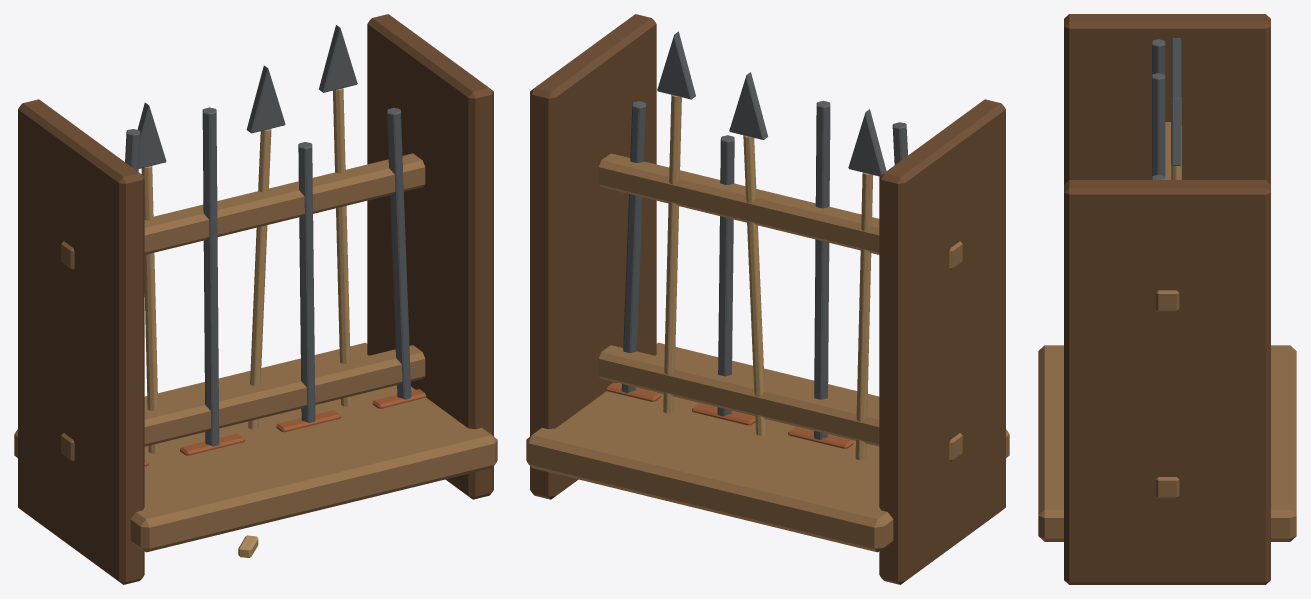
File: runtime.glb
3 views of the same model, side by side, from view 1: azimuth 30°, elevation 25°; view 2: azimuth 150°, elevation 25°; view 3: azimuth 270°, elevation 25° (orthographic). The views are drawn at different scales.
Parts seen in each view (by area): view 1: falkenwacht-weapon-rack-v07_nocol; view 2: falkenwacht-weapon-rack-v07_nocol; view 3: falkenwacht-weapon-rack-v07_nocol.
Part boxes in pixels (left/top/right/bottom): falkenwacht-weapon-rack-v07_nocol: left=14, top=14, right=497, bottom=584; falkenwacht-weapon-rack-v07_nocol: left=526, top=14, right=1009, bottom=584; falkenwacht-weapon-rack-v07_nocol: left=1038, top=14, right=1296, bottom=584.
Bounding box in the file's own units: 1.92 × 2.19 × 1.16.
